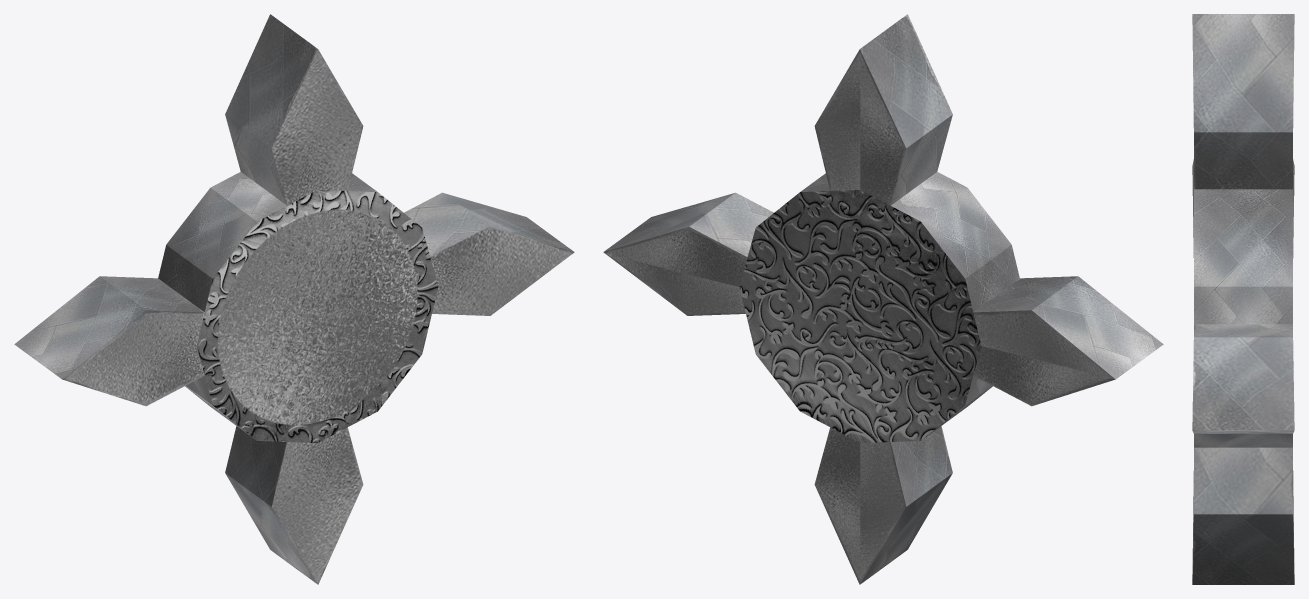
File: Brooch.1.fbx
3 renders of one model, left to right at view 1: azimuth 30°, elevation 25°; view 2: azimuth 150°, elevation 25°; view 3: azimuth 270°, elevation 25°, orthographic. The views are drawn at different scales.
Parts seen in each view (by area): view 1: pCylinder1; view 2: pCylinder1; view 3: pCylinder1.
Part boxes in pixels (x1=…): pCylinder1: x1=14, y1=14, x2=574, y2=584; pCylinder1: x1=603, y1=14, x2=1163, y2=584; pCylinder1: x1=1192, y1=14, x2=1294, y2=584.
Size of the model in its own units: 4.24 by 4.23 by 0.6871.
